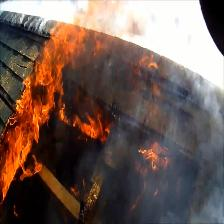fire: (1, 131, 27, 176), (24, 74, 46, 127), (45, 37, 64, 73)
smoke: (179, 184, 224, 223), (191, 141, 224, 183)
